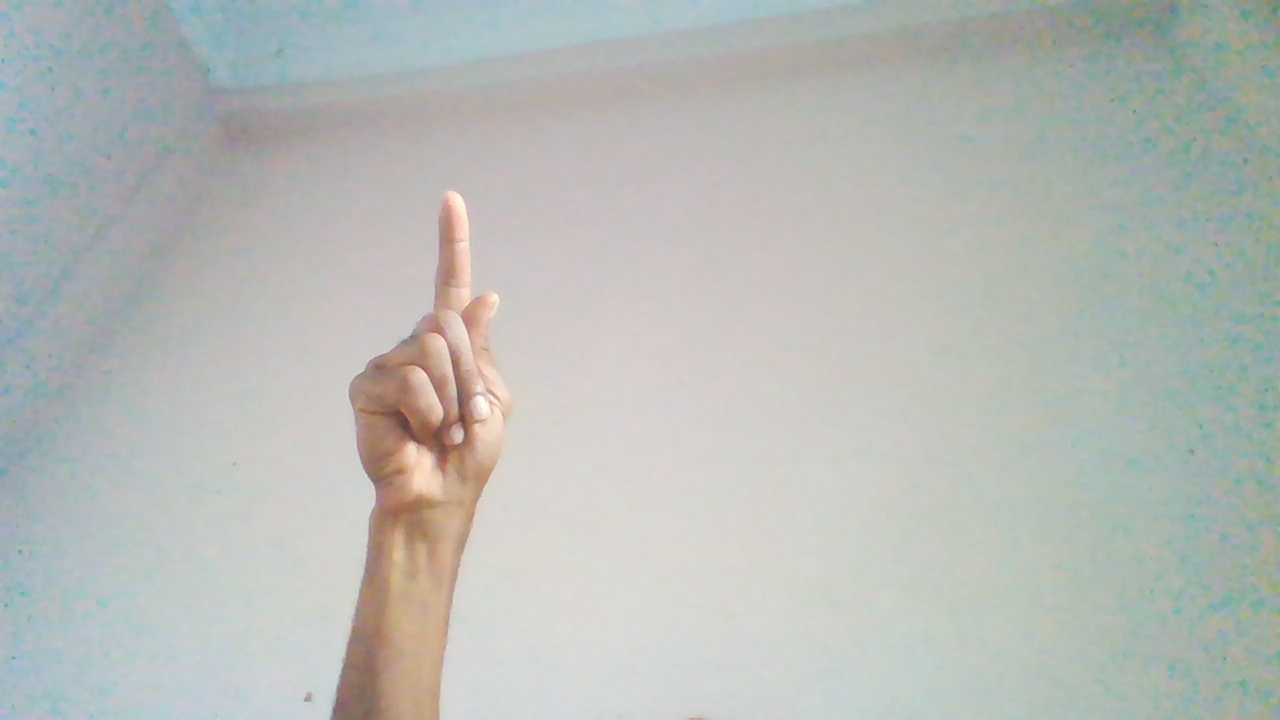ne: (347, 187, 519, 575)
